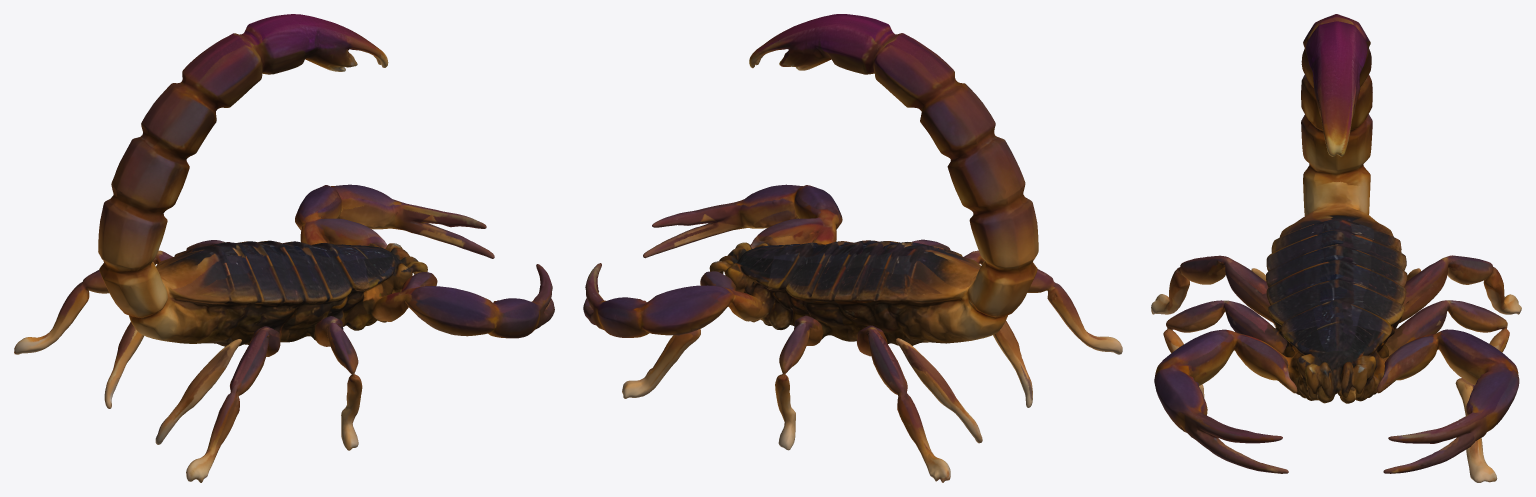
The model's file is romantex_20.glb.
3 renders of one model, left to right at view 1: azimuth 30°, elevation 25°; view 2: azimuth 150°, elevation 25°; view 3: azimuth 270°, elevation 25°, orthographic. The views are drawn at different scales.
Parts seen in each view (by area): view 1: texture_v130_hdr_21w_pbr_dino_11w.001; view 2: texture_v130_hdr_21w_pbr_dino_11w.001; view 3: texture_v130_hdr_21w_pbr_dino_11w.001.
Part boxes in pixels (box(x1,y1,x2,y2)): texture_v130_hdr_21w_pbr_dino_11w.001: box(14, 14, 554, 482); texture_v130_hdr_21w_pbr_dino_11w.001: box(583, 14, 1122, 482); texture_v130_hdr_21w_pbr_dino_11w.001: box(1151, 14, 1521, 482).
Bounding box in the file's own units: 2 × 1.72 × 1.49.
1 material, 1 textured.
